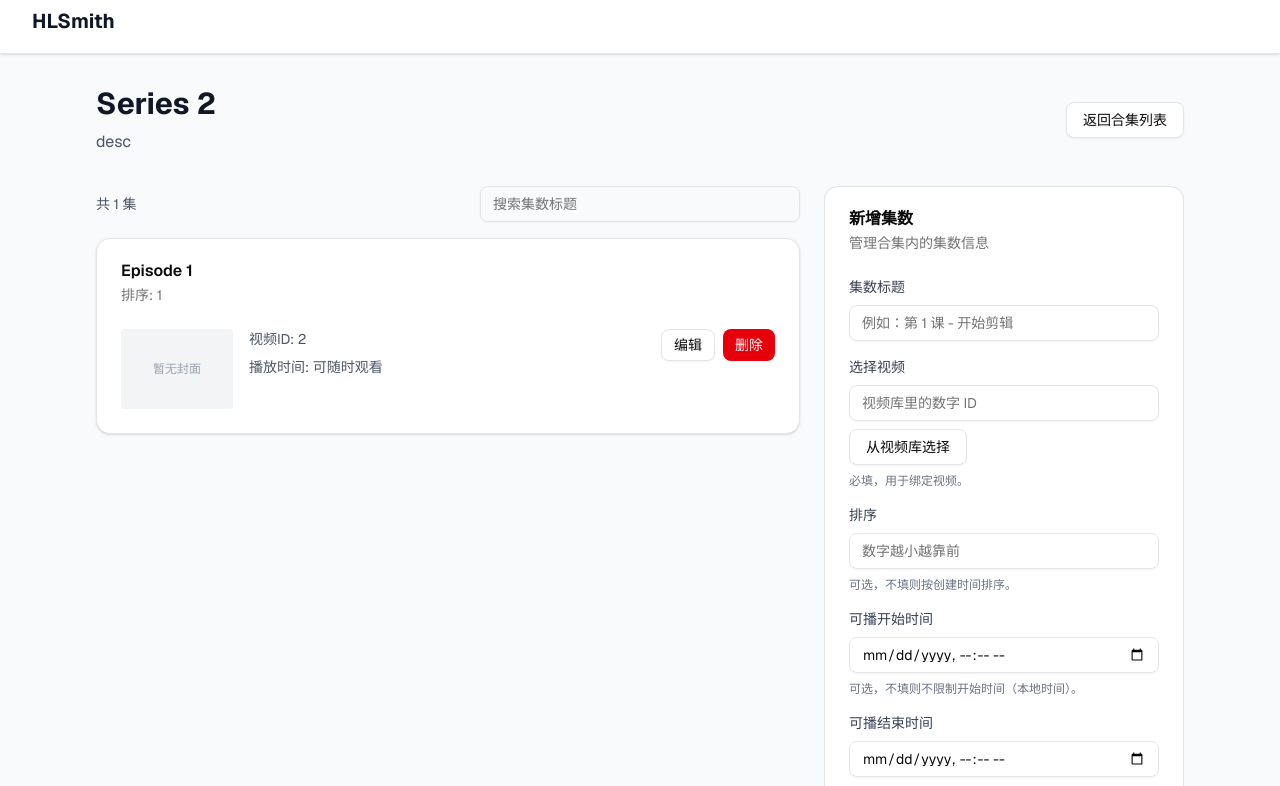
Scenario: CollectionDetailPage › validates sort_order integer
Expected: the text "Episode 1" is shown, [121,260,193,281]
In the field labelled "集数标题": (1004,323) [849,305,1159,341], type "Episode X"
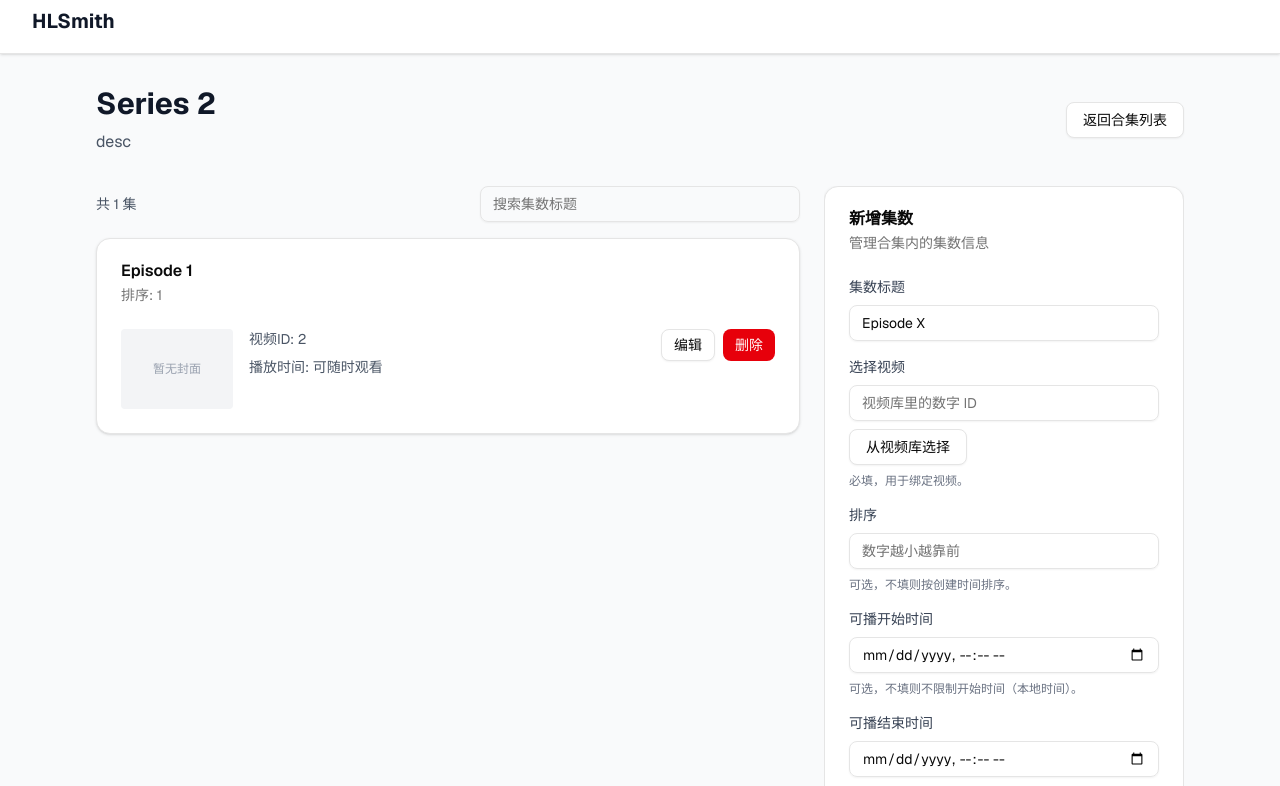
In the number field labelled "选择视频": (1004,403) [849,385,1159,421], type "10"
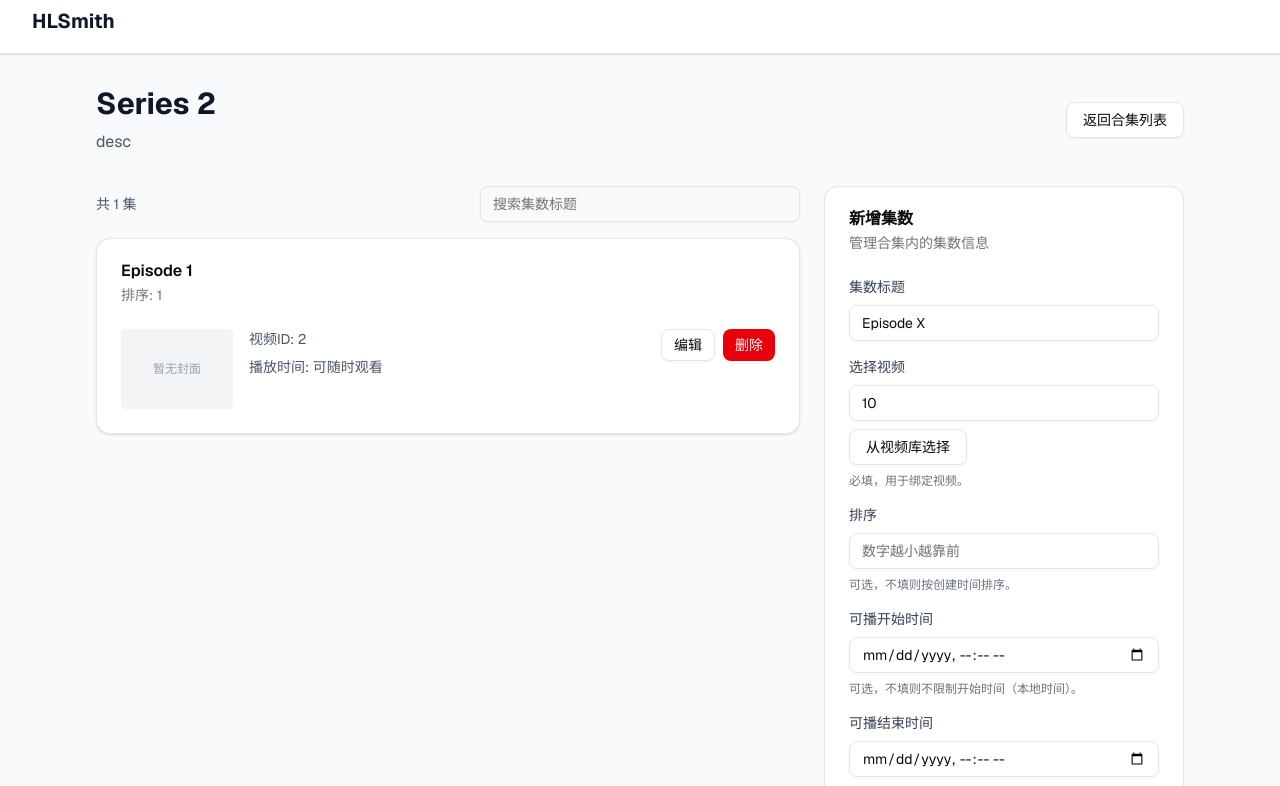
In the number field labelled "排序": (1004,551) [849,533,1159,569], type "1.2"
(page scrolled)
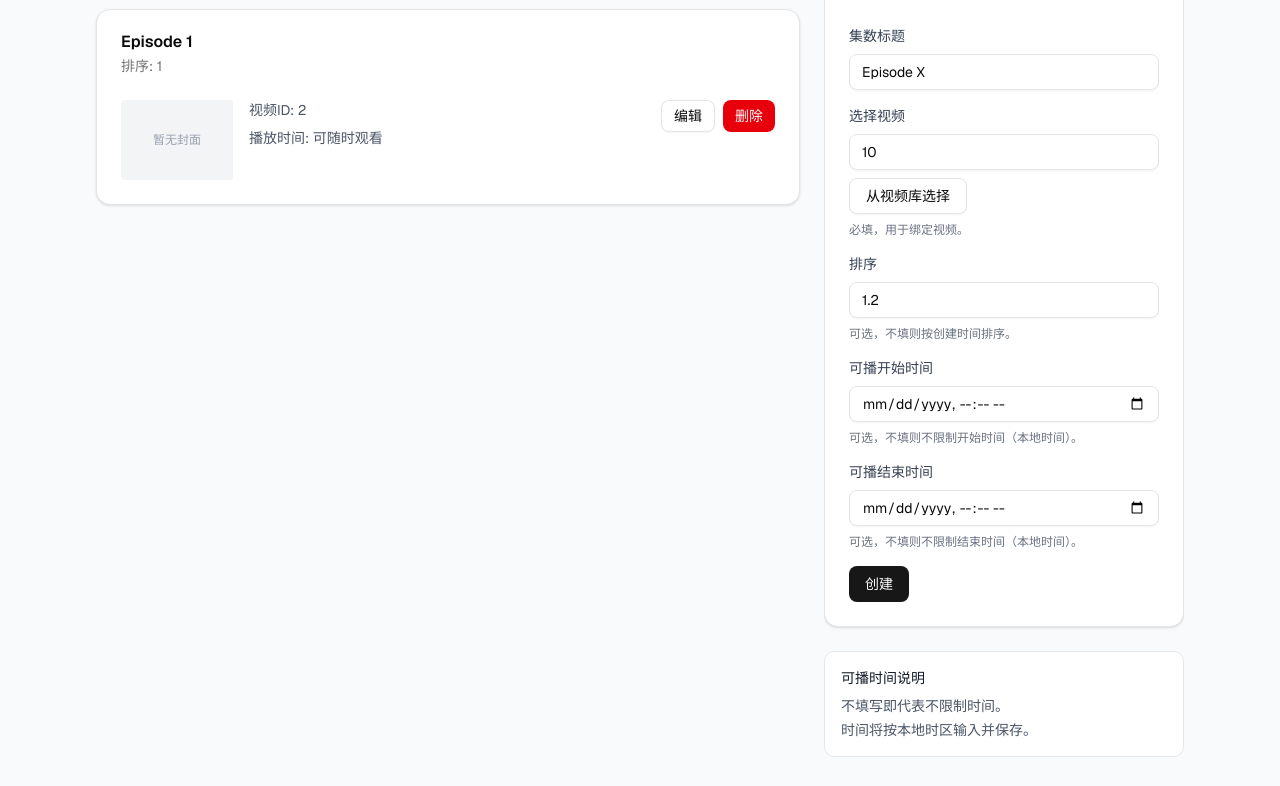
Click the button "创建": (879,584) [849,566,909,602]
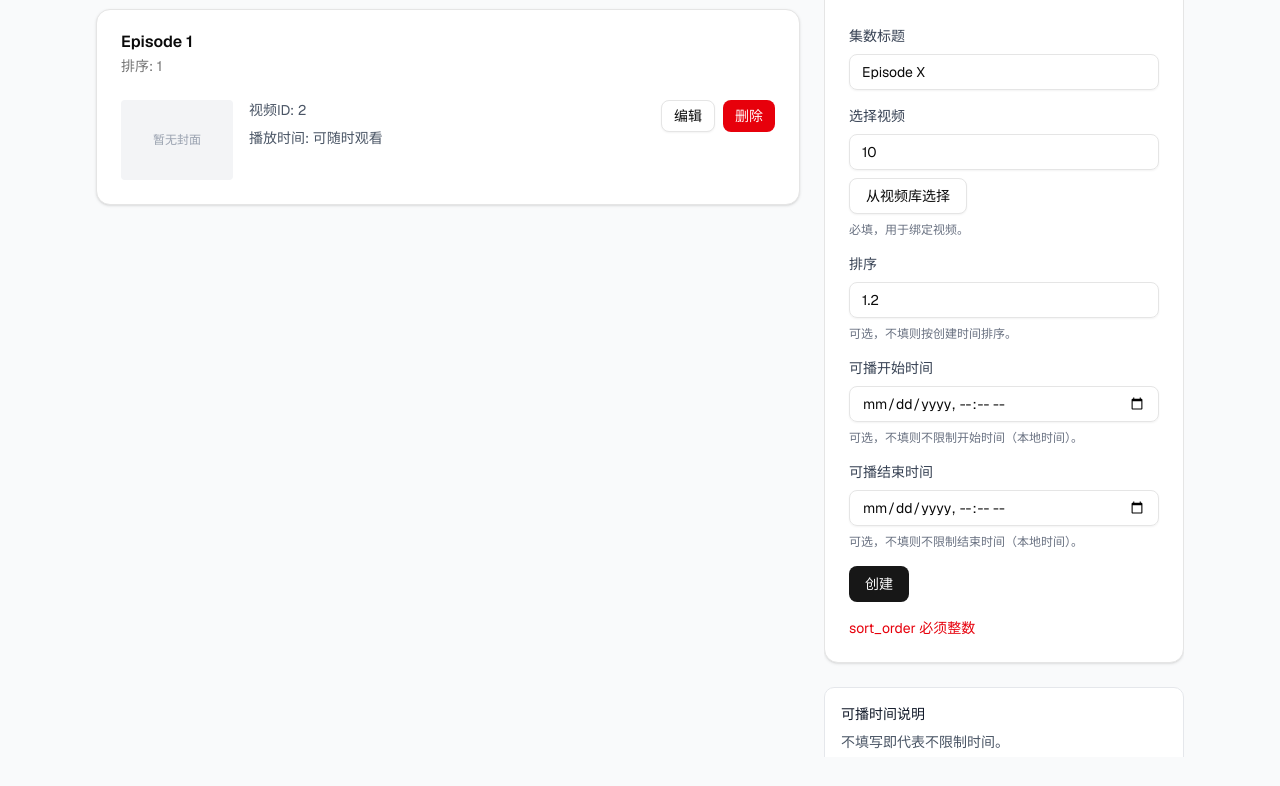
Result: the text "sort_order 必须整数" is shown at [849,619,975,637]
